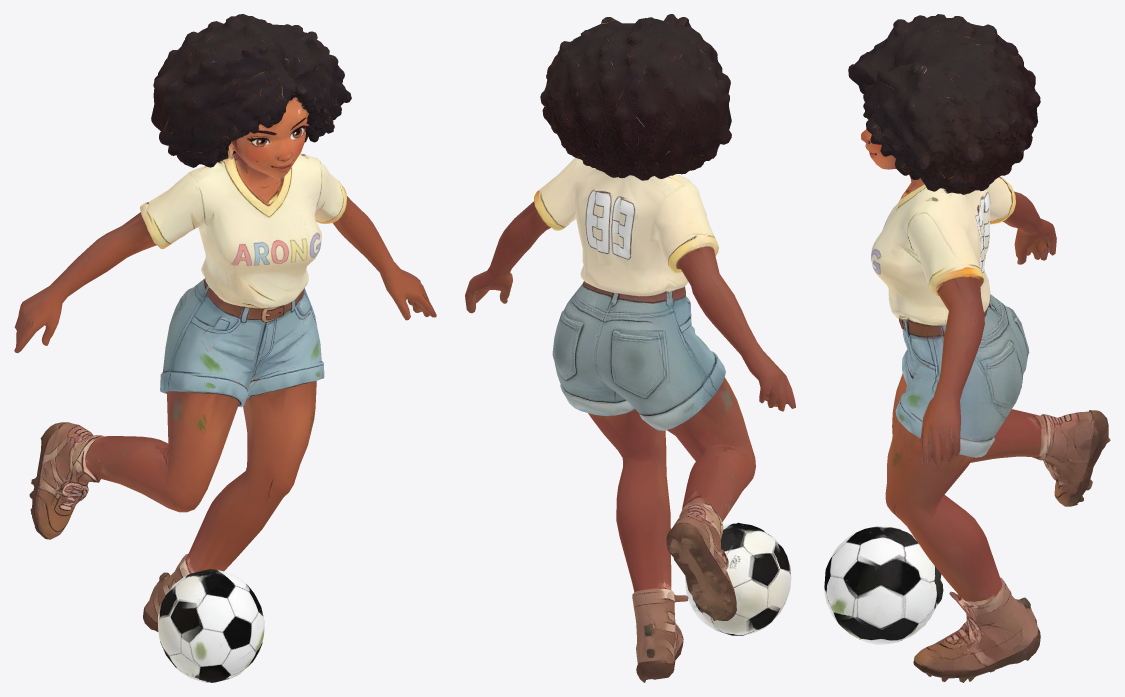
Rendered from arong-pitch.glb.
3 views of the same model, side by side, from view 1: azimuth 30°, elevation 25°; view 2: azimuth 150°, elevation 25°; view 3: azimuth 270°, elevation 25° (orthographic). The views are drawn at different scales.
Parts seen in each view (by area): view 1: ar-normalized; view 2: ar-normalized; view 3: ar-normalized.
Part boxes in pixels (left/top/right/bottom): ar-normalized: left=14, top=14, right=436, bottom=682; ar-normalized: left=465, top=14, right=795, bottom=682; ar-normalized: left=824, top=14, right=1110, bottom=682.
Bounding box in the file's own units: 0.6165 × 1 × 0.3892.
Materials: 1 (1 with a texture image).
